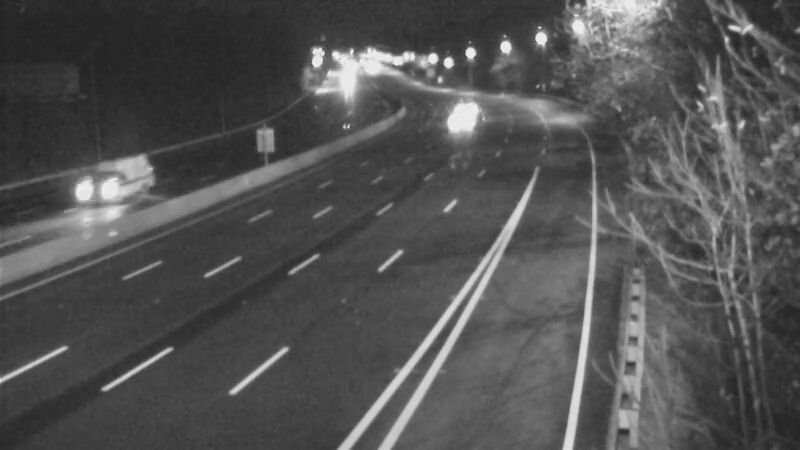vehicle: (68, 146, 148, 226), (445, 85, 495, 135), (431, 99, 481, 149)
